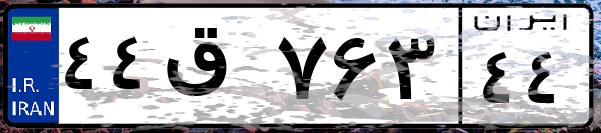3: (385, 28, 445, 110)
4: (57, 26, 110, 100), (475, 38, 525, 113), (525, 38, 570, 115), (110, 28, 158, 98)
6: (330, 28, 385, 110)
7: (270, 28, 330, 110)
ق: (158, 20, 270, 120)
